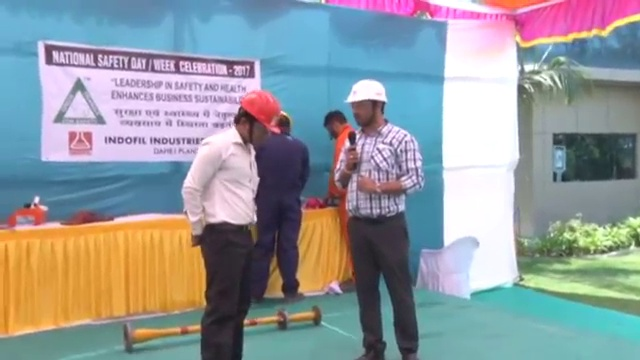helmet: (239, 89, 282, 135), (343, 77, 390, 107)
helmet_off: (321, 109, 348, 138)
helmet_on: (230, 87, 284, 151), (342, 77, 391, 134), (274, 109, 294, 138)
person: (181, 87, 283, 360), (333, 77, 423, 359), (257, 110, 311, 303), (320, 111, 361, 286)
